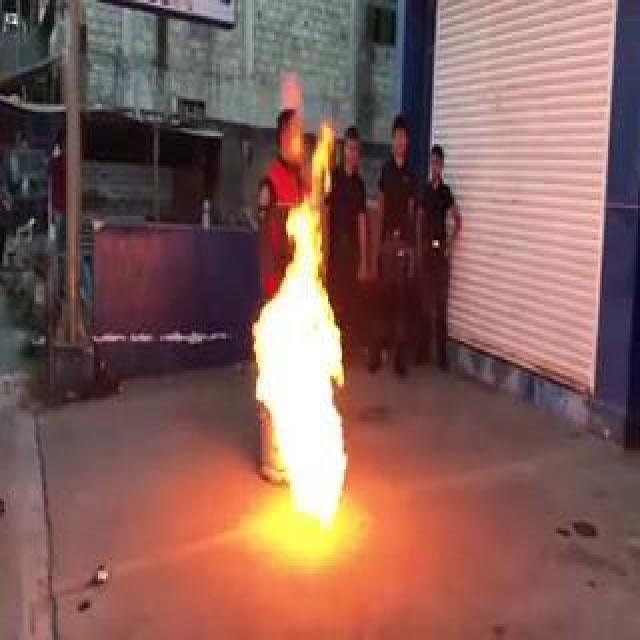Fire: (251, 193, 353, 532)
